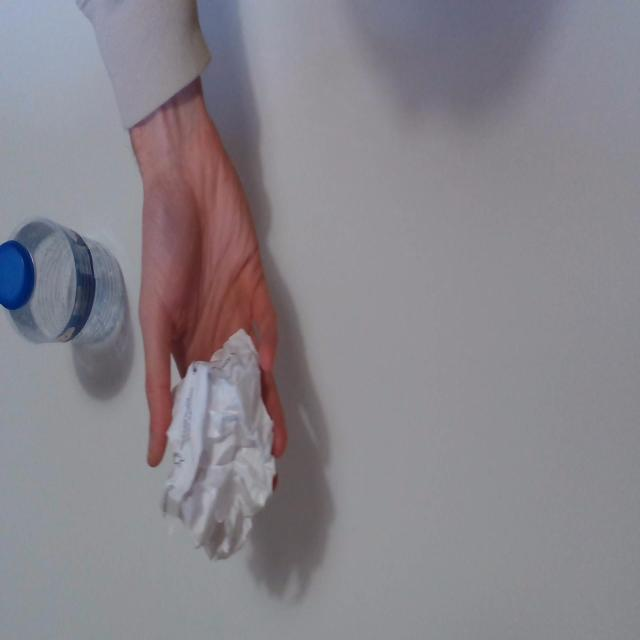Paper: (156, 324, 282, 568)
Plastic: (0, 208, 132, 354)
